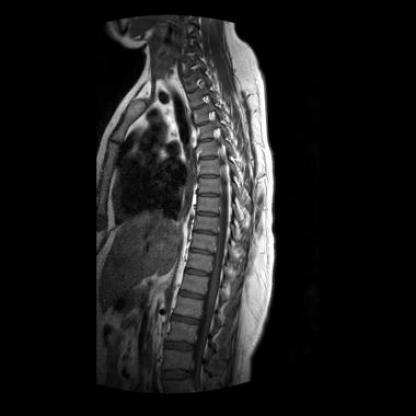Demyelinating Plaquesrotation: (199, 209, 221, 221), (198, 136, 218, 146)
Hemangiomatarotation: (188, 253, 214, 272), (195, 125, 216, 139)
